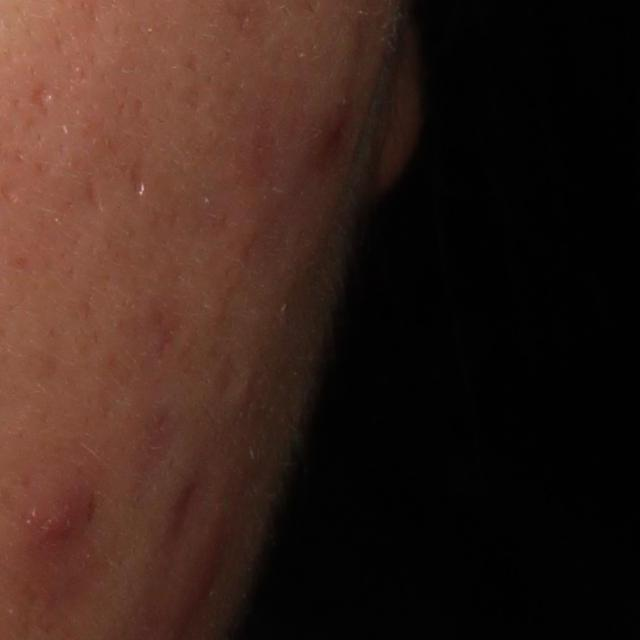atrophic_scar: (210, 348, 251, 414), (28, 78, 53, 117), (84, 172, 106, 213), (128, 164, 149, 196)
papule: (20, 467, 108, 560), (184, 543, 228, 614)
